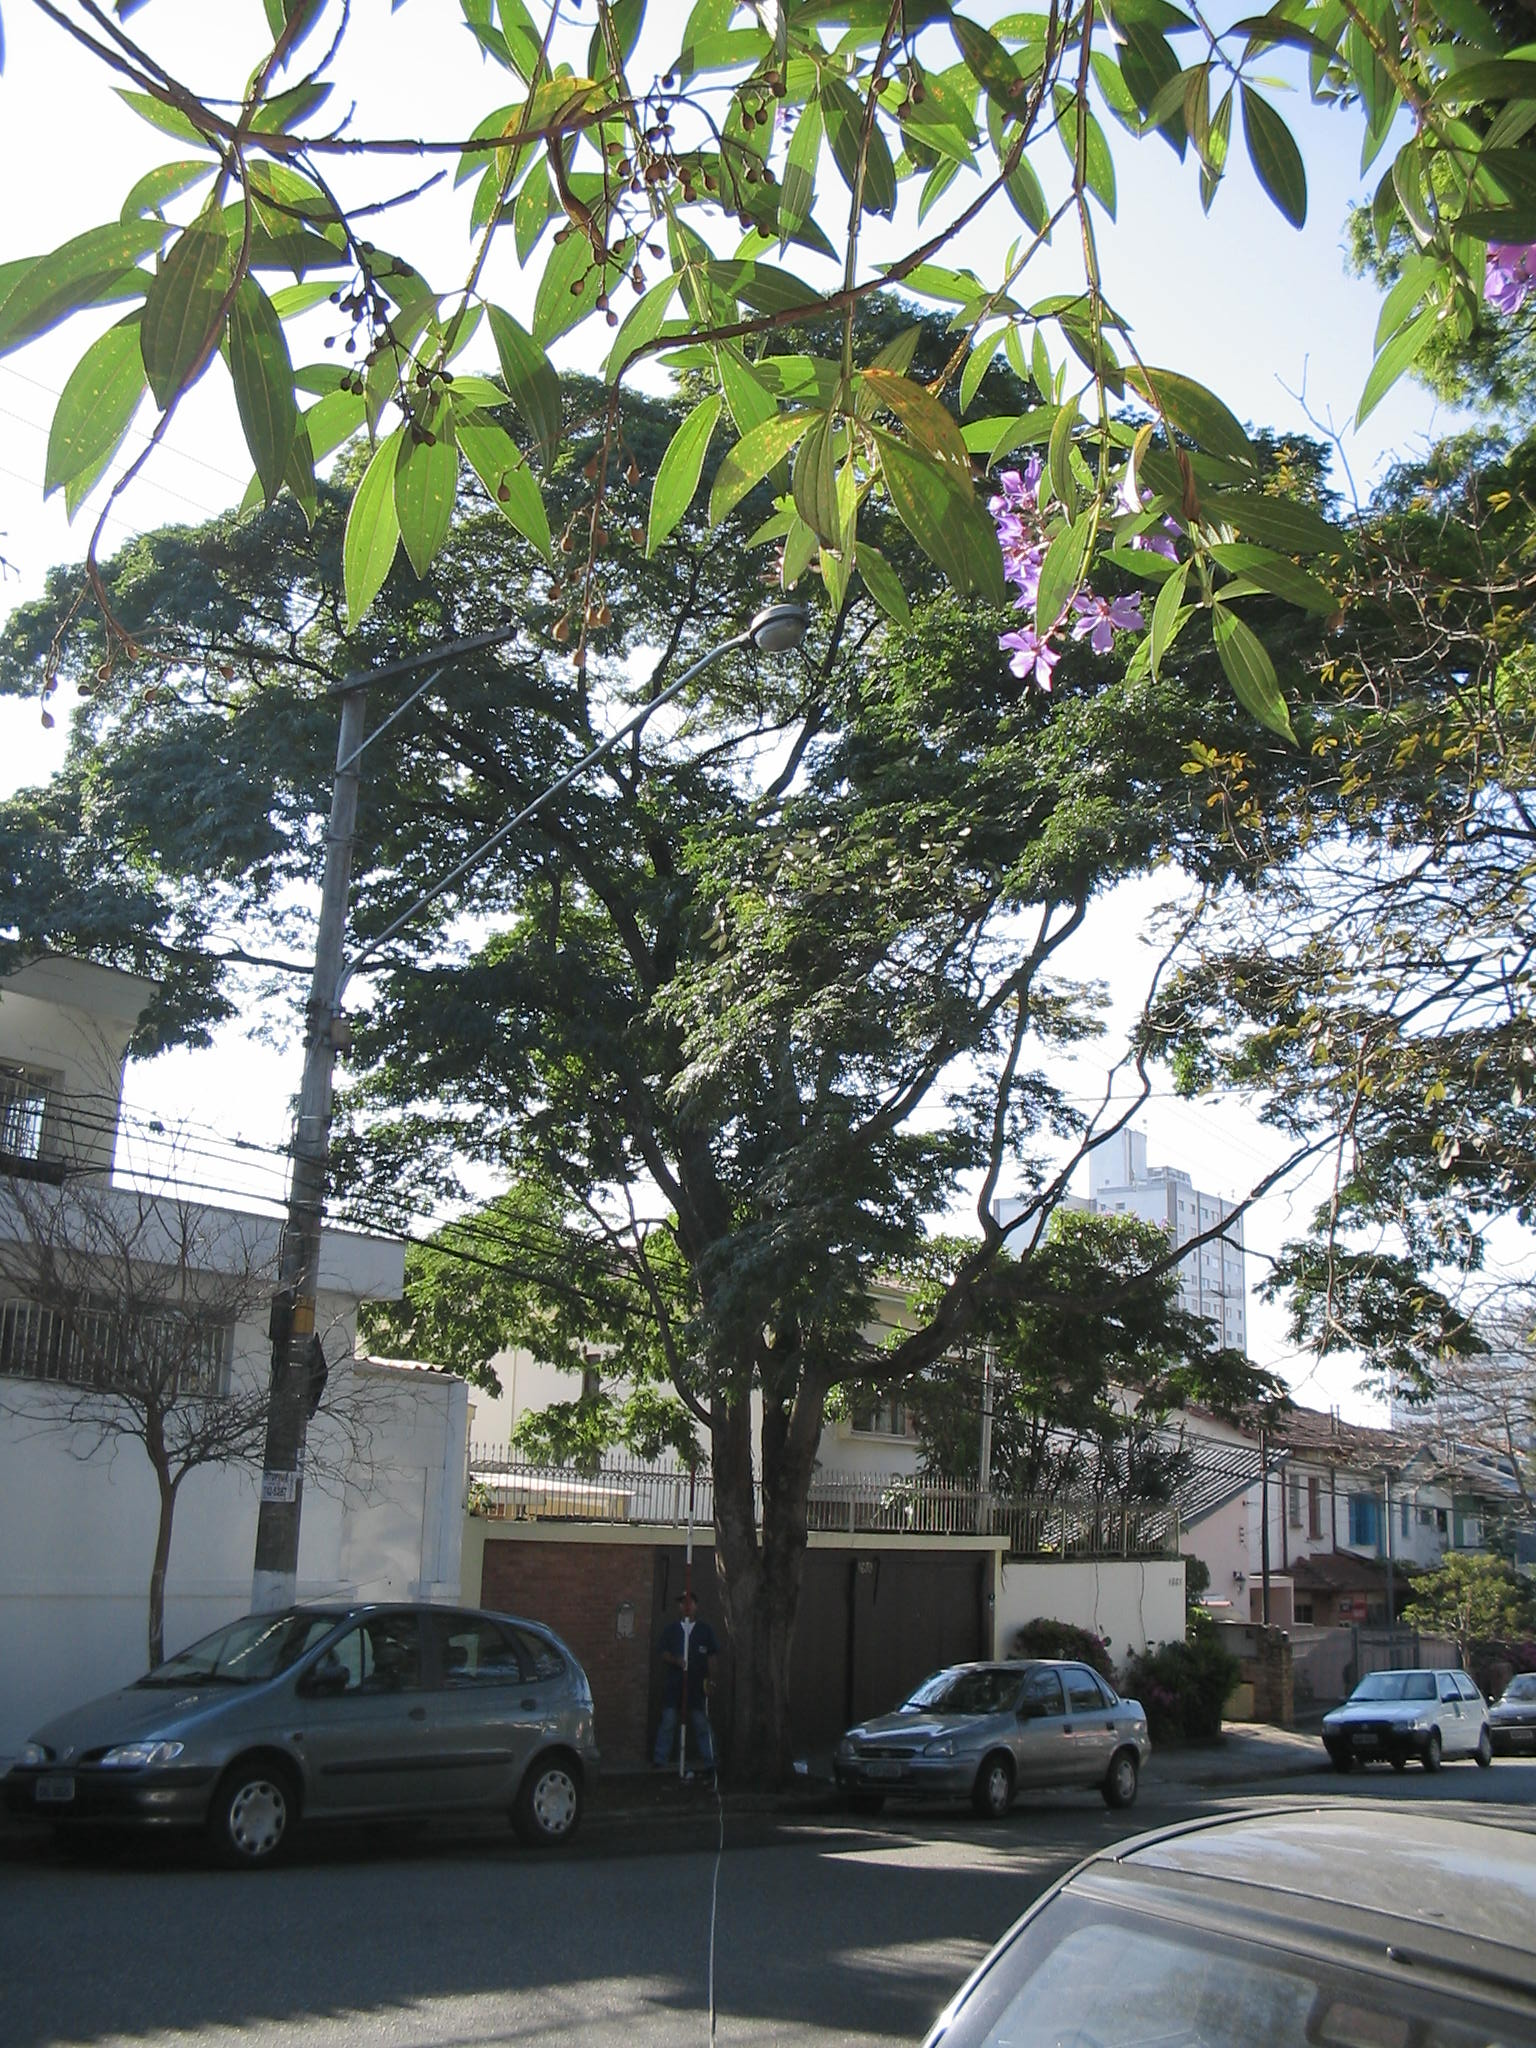crown: (11, 285, 1350, 1367)
stem: (703, 1561, 808, 1785)
stick: (665, 1451, 703, 1784)
tree: (3, 285, 1359, 1785)
